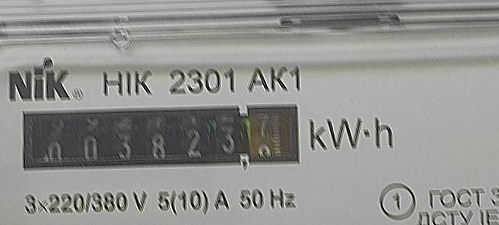0: (76, 132, 97, 159), (42, 137, 61, 161)
2: (181, 125, 201, 158)
3: (216, 123, 235, 154), (112, 129, 131, 159)
7: (253, 112, 270, 140)
8: (146, 130, 164, 159)
9: (44, 116, 62, 136)
screen: (11, 95, 302, 178)
